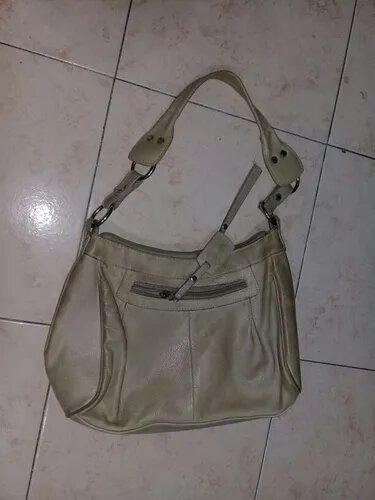cartera: (39, 51, 318, 442)
cuero: (43, 215, 311, 428)
